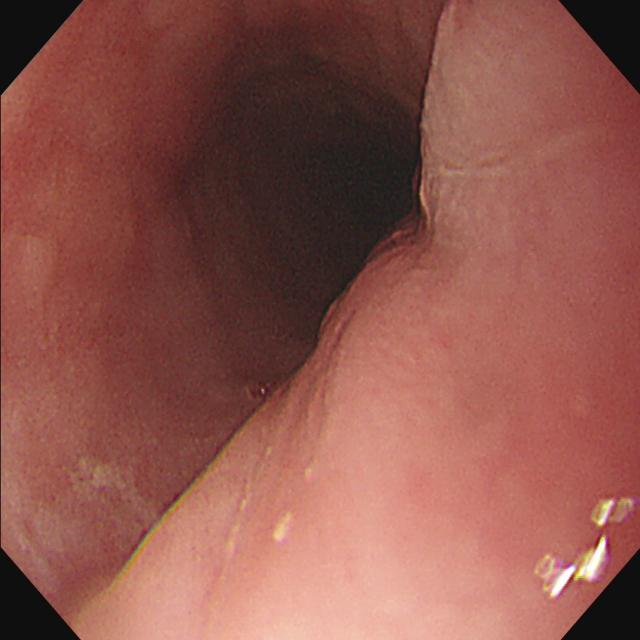E: (178, 31, 429, 361)
U: (536, 498, 634, 602)
